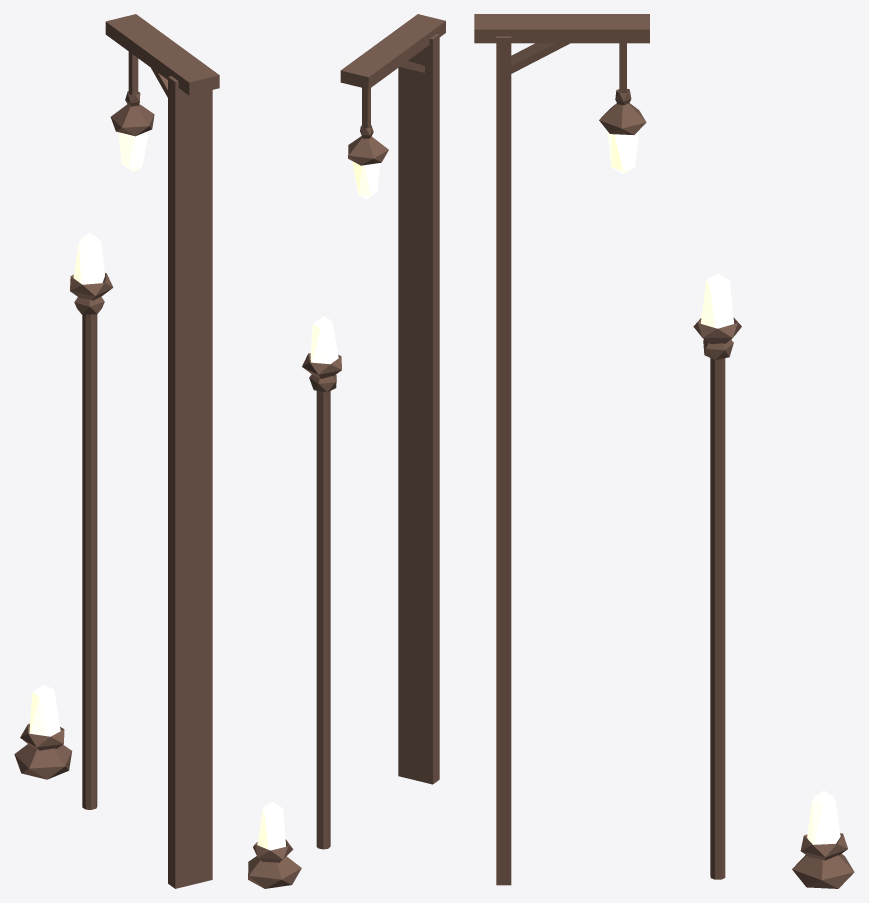
Rendered from Light_Stone.fbx.
3 views of the same model, side by side, from view 1: azimuth 30°, elevation 25°; view 2: azimuth 150°, elevation 25°; view 3: azimuth 270°, elevation 25° (orthographic). The views are drawn at different scales.
Visible parts, largest first — view 1: Икосфера.005, Икосфера.006, Икосфера.002; view 2: Икосфера.005, Икосфера.006, Икосфера.002; view 3: Икосфера.005, Икосфера.006, Икосфера.002.
Boxes of the visible parts, x1,y1,x2,y2 form: Икосфера.005: [105, 14, 219, 888]; Икосфера.006: [70, 232, 113, 809]; Икосфера.002: [14, 684, 71, 779]; Икосфера.005: [340, 14, 445, 784]; Икосфера.006: [302, 316, 341, 849]; Икосфера.002: [248, 802, 301, 888]; Икосфера.005: [474, 14, 649, 885]; Икосфера.006: [693, 273, 741, 879]; Икосфера.002: [792, 790, 854, 888].
Bounding box in the file's own units: 12.78 × 191 × 77.21.
